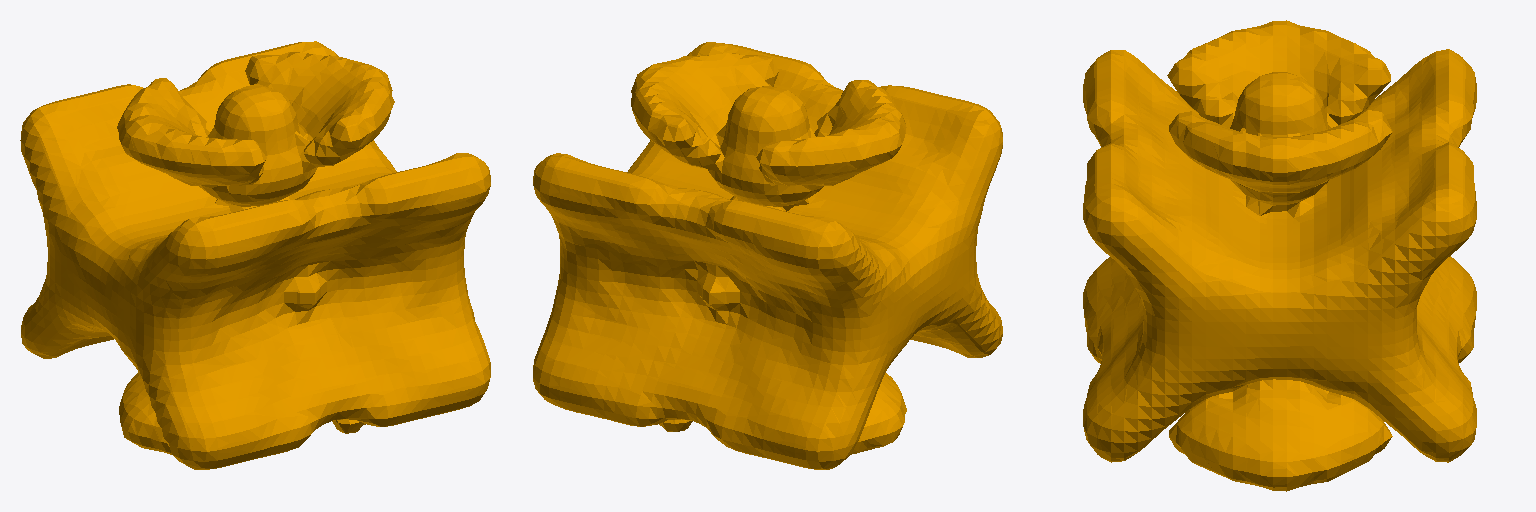
URDF robot description (R16_2):
<?xml version="1.0"?>
<robot name="R16_2">
  <link name="base_link">
    <visual>
      <geometry>
        <mesh filename="../../../../meshes/egad/train/R16_2.obj" />
      </geometry>
    </visual>
  </link>
</robot>

--- What the picture shows (computed from the rendered views, not written in the file) ---
Views: 3 orthographic renders of the robot side by side, from view 1: azimuth 30°, elevation 25°; view 2: azimuth 150°, elevation 25°; view 3: azimuth 270°, elevation 25°.
Robot: R16_2 — 1 links, 0 joints (none); root link base_link; default pose: every joint at zero.
Links seen in each view (by area): view 1: base_link; view 2: base_link; view 3: base_link.
Boxes of the visible links, x1,y1,x2,y2 form: base_link: (20,41,490,469); base_link: (533,42,1002,469); base_link: (1083,20,1476,491).
Size in the robot's own frame: 0.0613 by 0.0606 by 0.06 metres.
1 mesh visuals loaded from 1 distinct referenced files (1 OBJ).